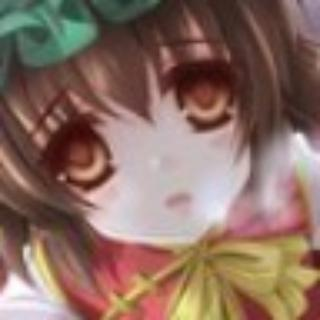QR: (43, 86, 265, 242), (9, 17, 82, 76)
eye: (43, 86, 265, 242)
